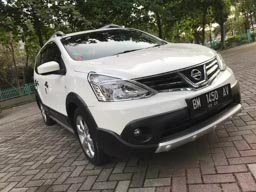plat: (188, 84, 230, 119)
